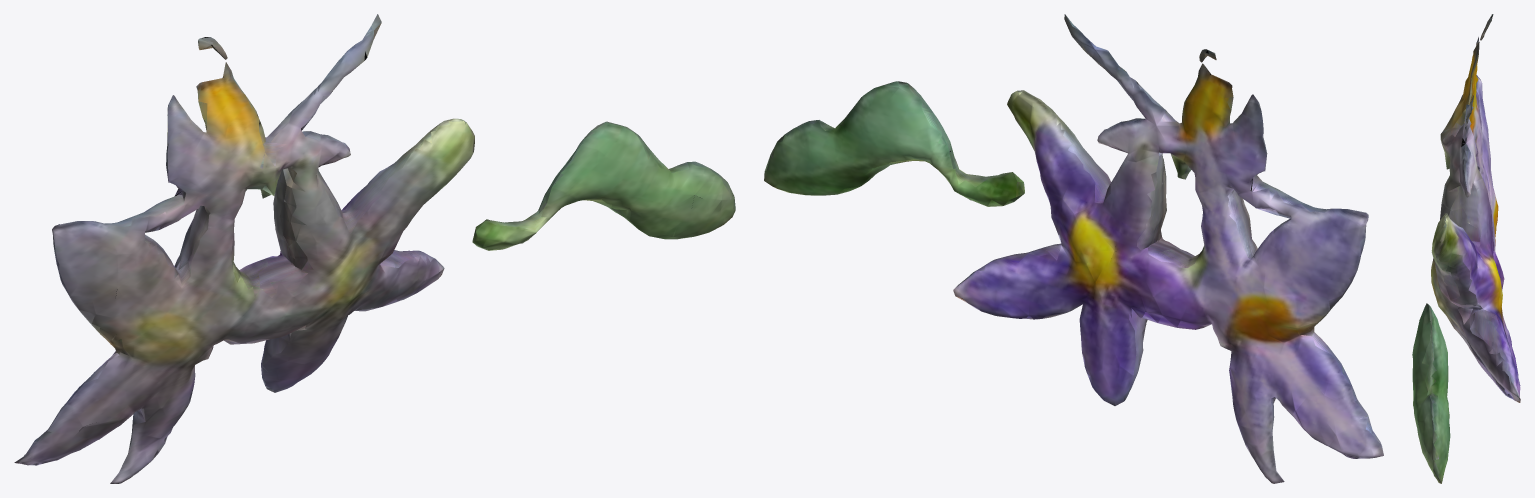
File: thuthuvalai.glb
3 views of the same model, side by side, from view 1: azimuth 30°, elevation 25°; view 2: azimuth 150°, elevation 25°; view 3: azimuth 270°, elevation 25° (orthographic). The views are drawn at different scales.
Parts seen in each view (by area): view 1: world; view 2: world; view 3: world.
Boxes of the visible parts, bbox=[...] form: world: bbox=[14, 14, 735, 483]; world: bbox=[764, 14, 1383, 483]; world: bbox=[1412, 14, 1520, 483].
Bounding box in the file's own units: 0.9453 × 0.5693 × 0.1441.
1 material, 1 textured.
